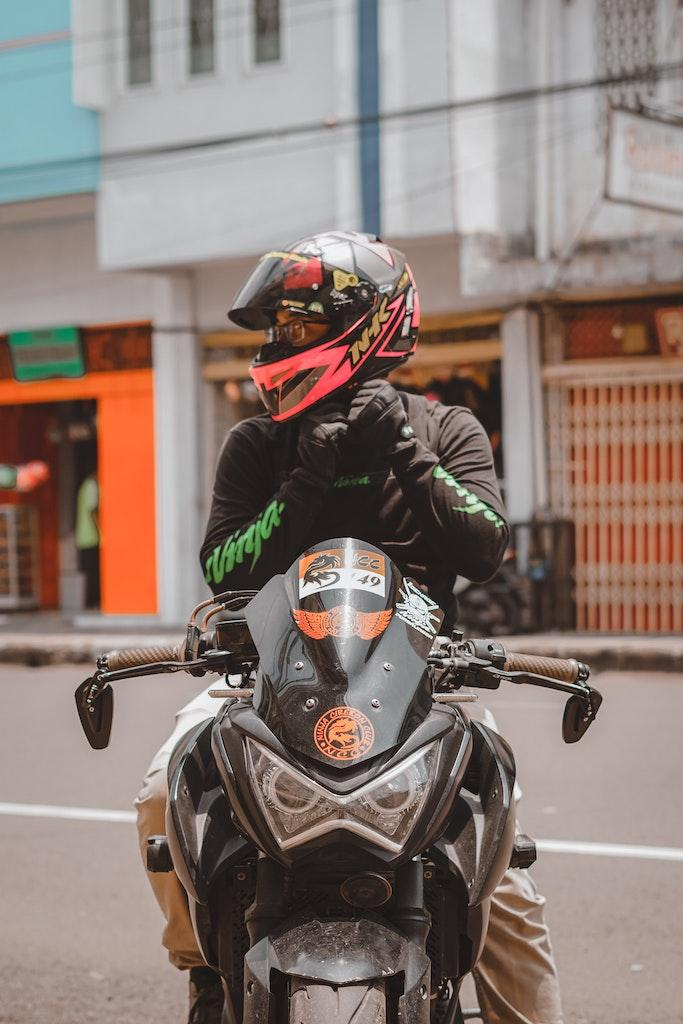helmet: (226, 228, 421, 425)
